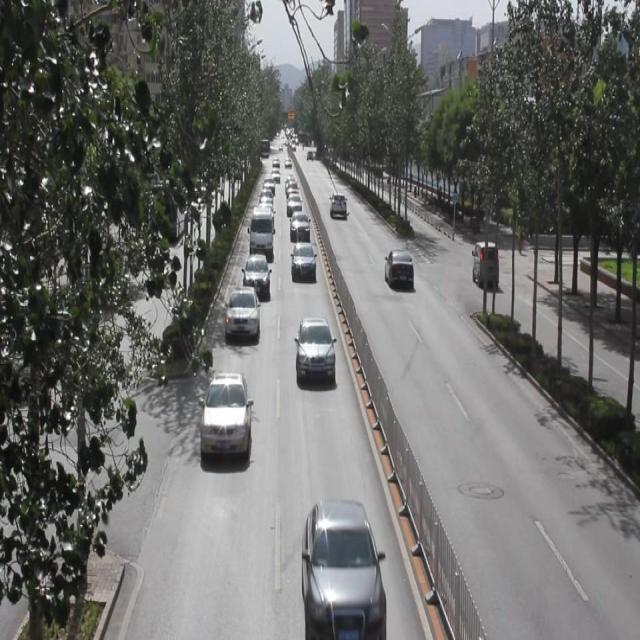car: (303, 499, 380, 640), (201, 373, 249, 459), (297, 316, 334, 380), (225, 286, 260, 342), (384, 249, 412, 293), (243, 252, 268, 298), (290, 240, 316, 284), (289, 209, 308, 241)
truck: (248, 205, 273, 252), (470, 240, 496, 284)
